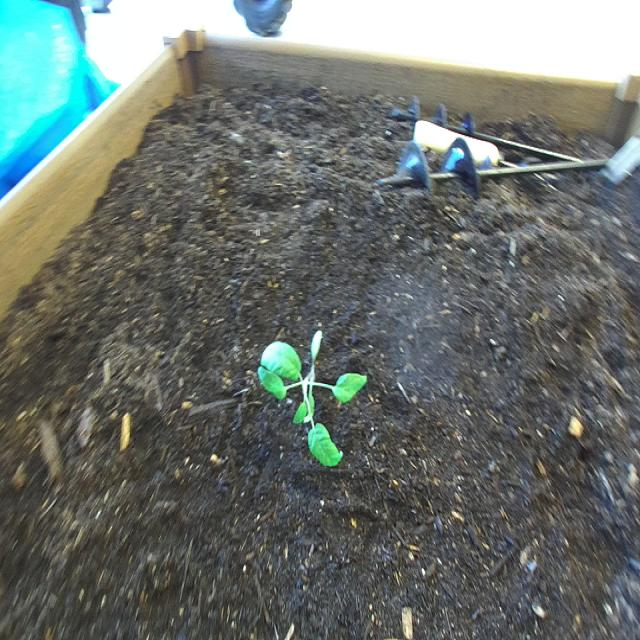Healthy: (256, 324, 372, 473)
